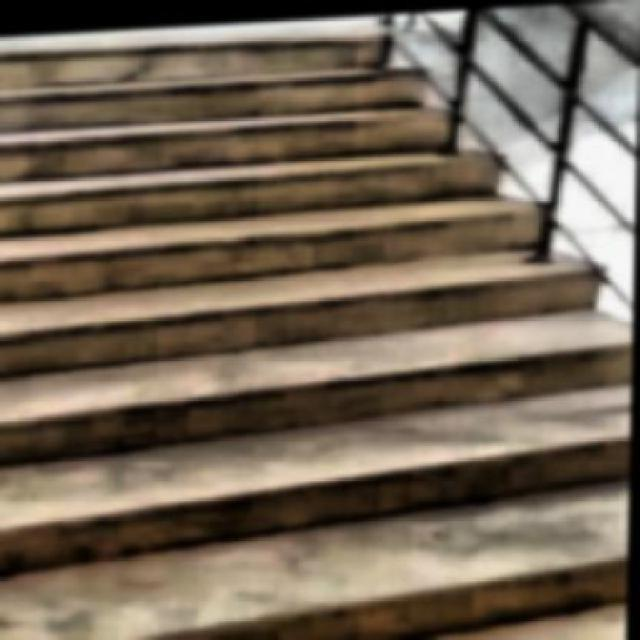stair: (2, 3, 640, 638)
